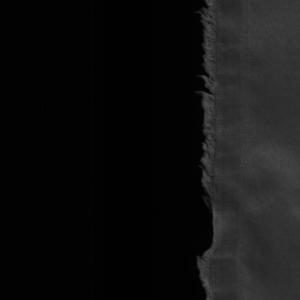Damage: (192, 1, 229, 300)
